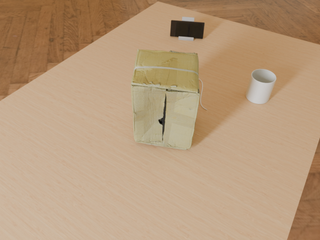box: (131, 49, 200, 150)
cup: (246, 69, 276, 104)
phone: (170, 20, 205, 39)
